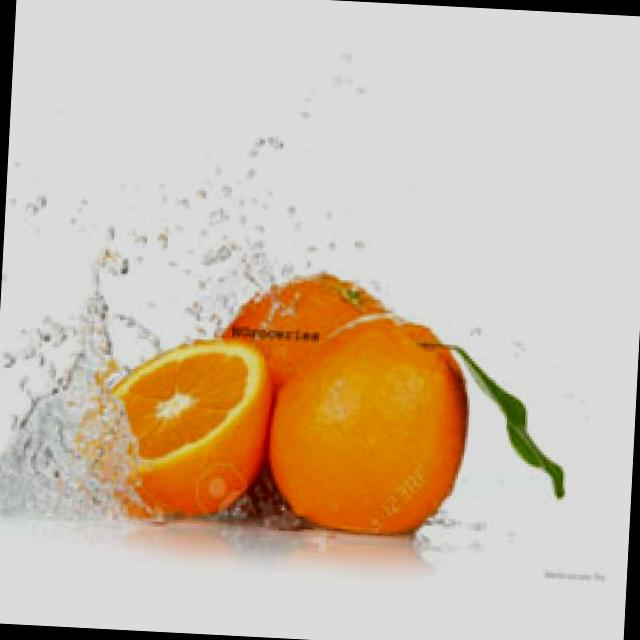orange: (260, 302, 492, 539), (201, 266, 412, 509)
